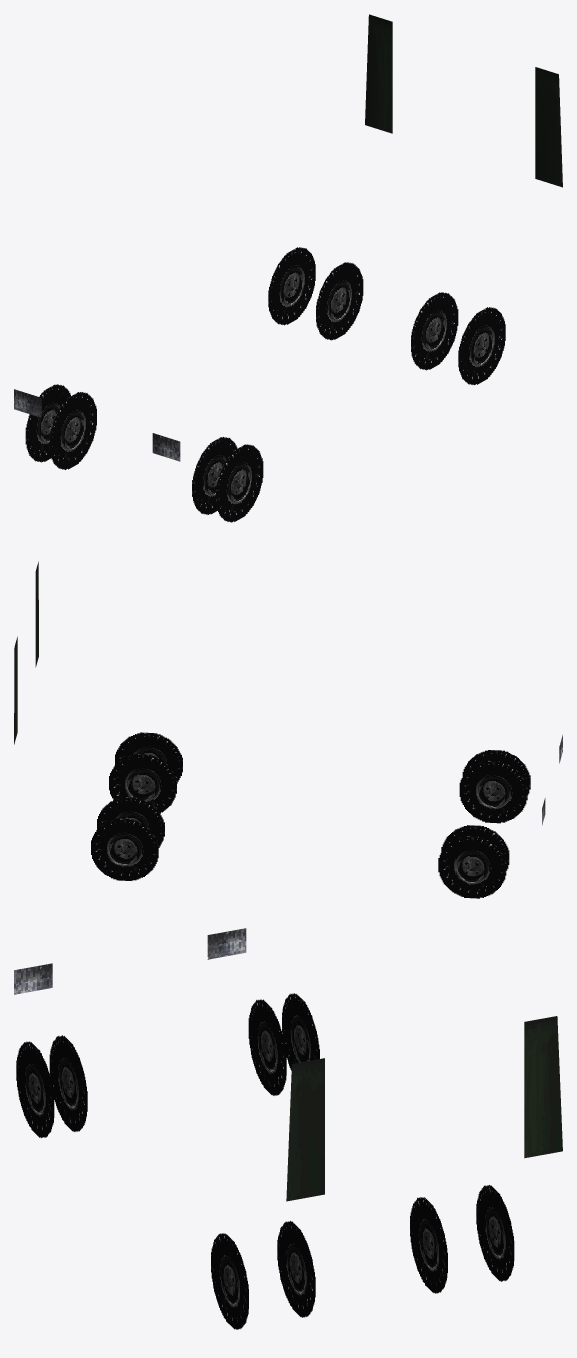
Rendered from green_truck_secondary.glb.
The picture shows the model from 3 angles, top to bottom: view 1: azimuth 30°, elevation 25°; view 2: azimuth 150°, elevation 25°; view 3: azimuth 270°, elevation 25°; orthographic projection. The views are drawn at different scales.
Parts seen in each view (by area): view 1: Object; view 2: Object; view 3: Object.
Boxes of the visible parts, x1,y1,x2,y2 form: Object: (14,14,562,522); Object: (14,561,562,898); Object: (14,928,562,1329).
Bounding box in the file's own units: 8.34 × 3.72 × 5.76.
Materials: 3 (3 with a texture image).
